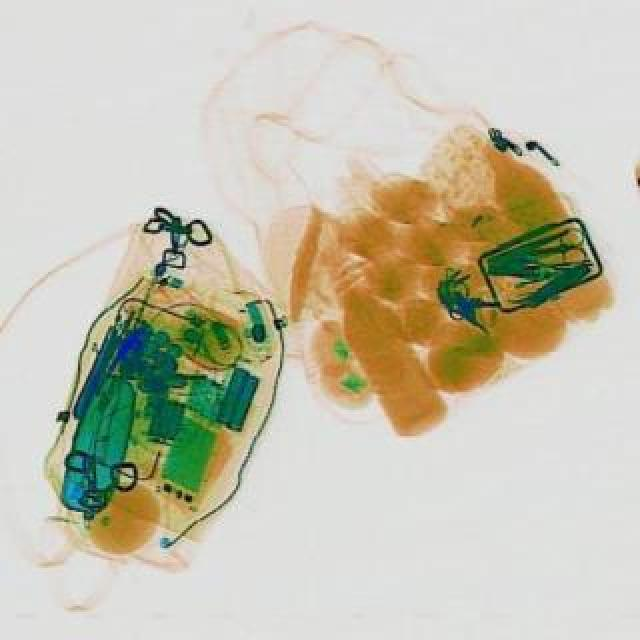pliers: (516, 224, 588, 272)
